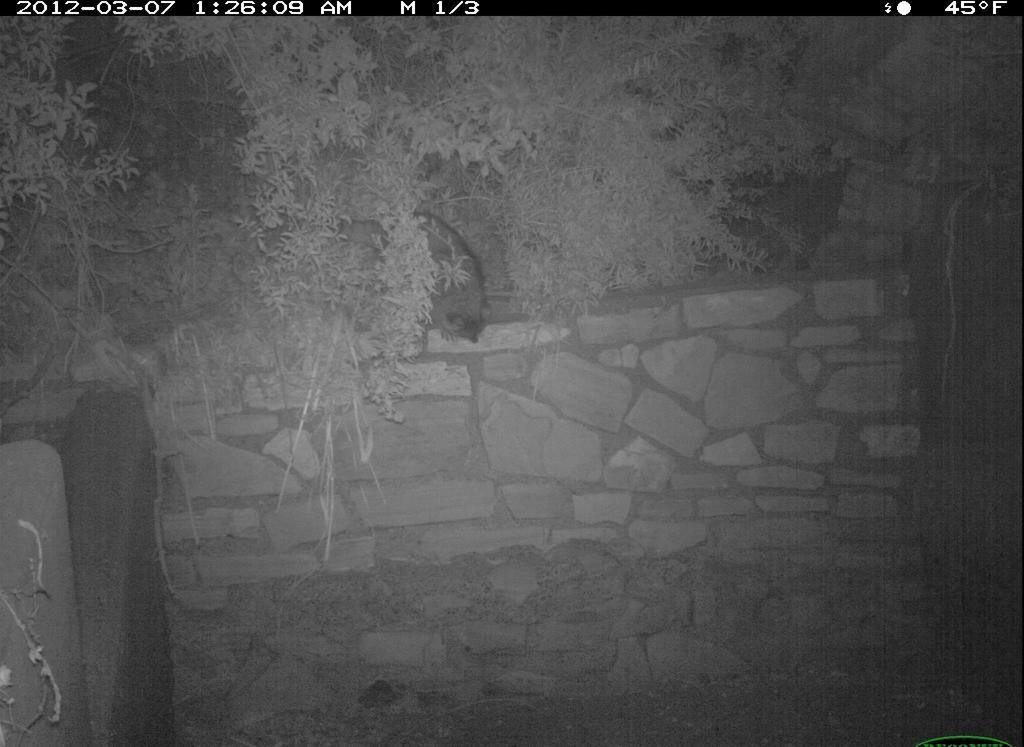raccoon: (390, 208, 497, 347)
